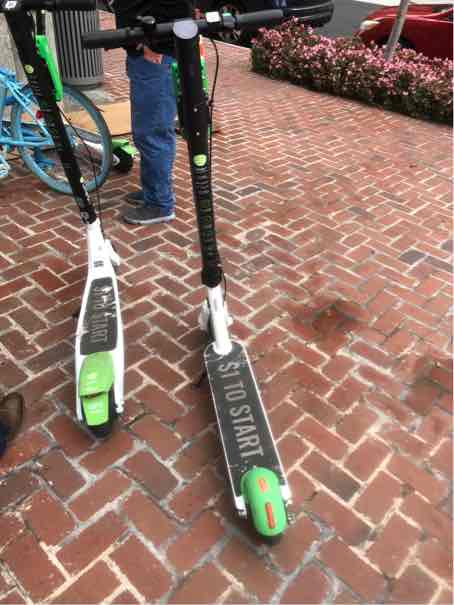scooter: (74, 1, 348, 546), (1, 1, 149, 438)
